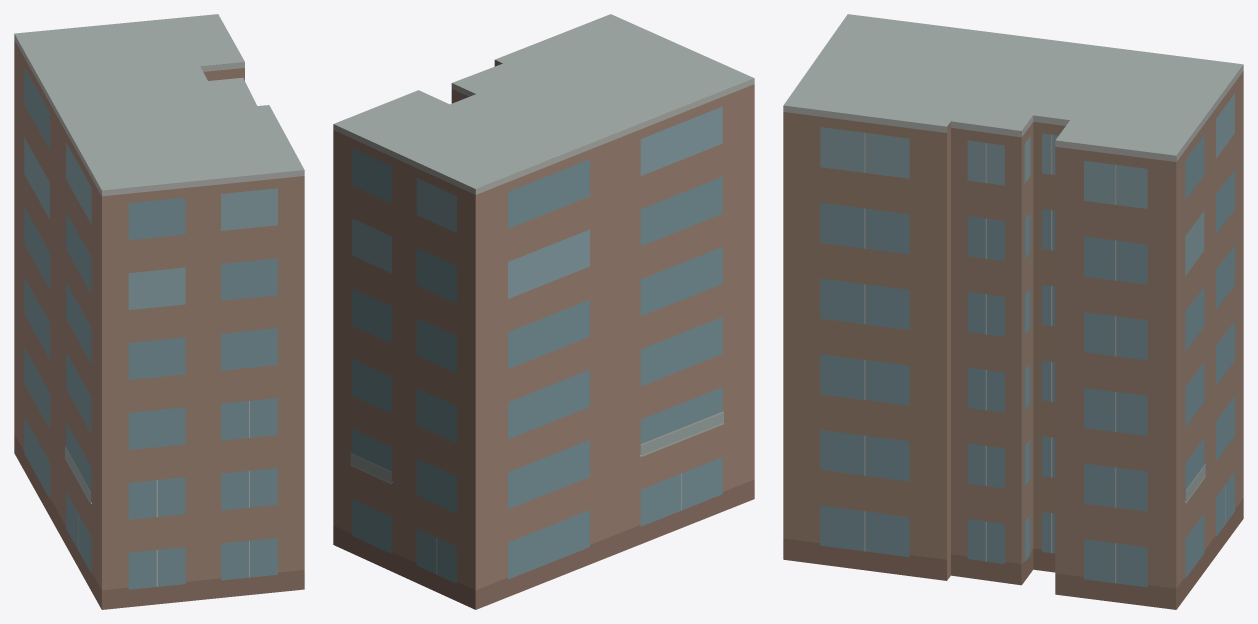
Rendered from survey-upis-32529640.glb.
3 views of the same model, side by side, from view 1: azimuth 30°, elevation 25°; view 2: azimuth 150°, elevation 25°; view 3: azimuth 270°, elevation 25° (orthographic). The views are drawn at different scales.
Parts seen in each view (by area): view 1: survey-upis-32529640.tmp; view 2: survey-upis-32529640.tmp; view 3: survey-upis-32529640.tmp.
Part boxes in pixels (x1=…): survey-upis-32529640.tmp: x1=14, y1=14, x2=304, y2=609; survey-upis-32529640.tmp: x1=333, y1=14, x2=754, y2=609; survey-upis-32529640.tmp: x1=783, y1=14, x2=1243, y2=609.
Bounding box in the file's own units: 11.65 × 17.4 × 15.99.
